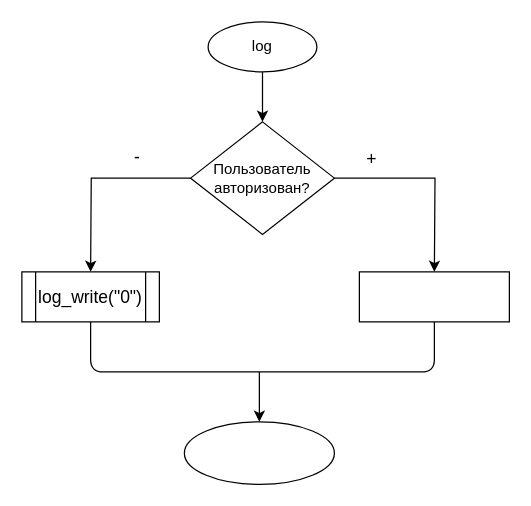
Some shapes in this 531 by 506 pixel diagram are drawn without their labels. The centre of each missing label's shape, as x and y in pixels:
Выход: the point at 258,452
открыть приложение: the point at 433,296
